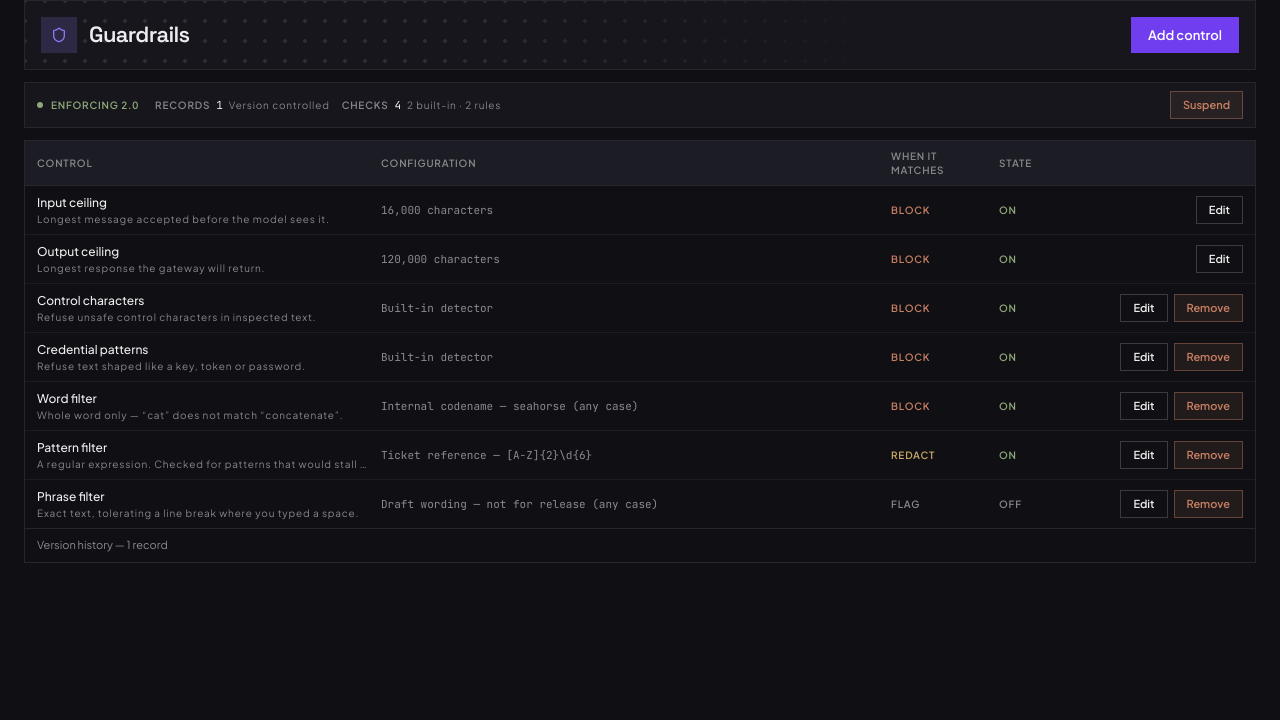
Scenario: guardrails › asks what kind of control first, then only that control's fields
Click the button "Add control" at (1185, 35), box top-left (1131, 17), bottom-right (1239, 53)
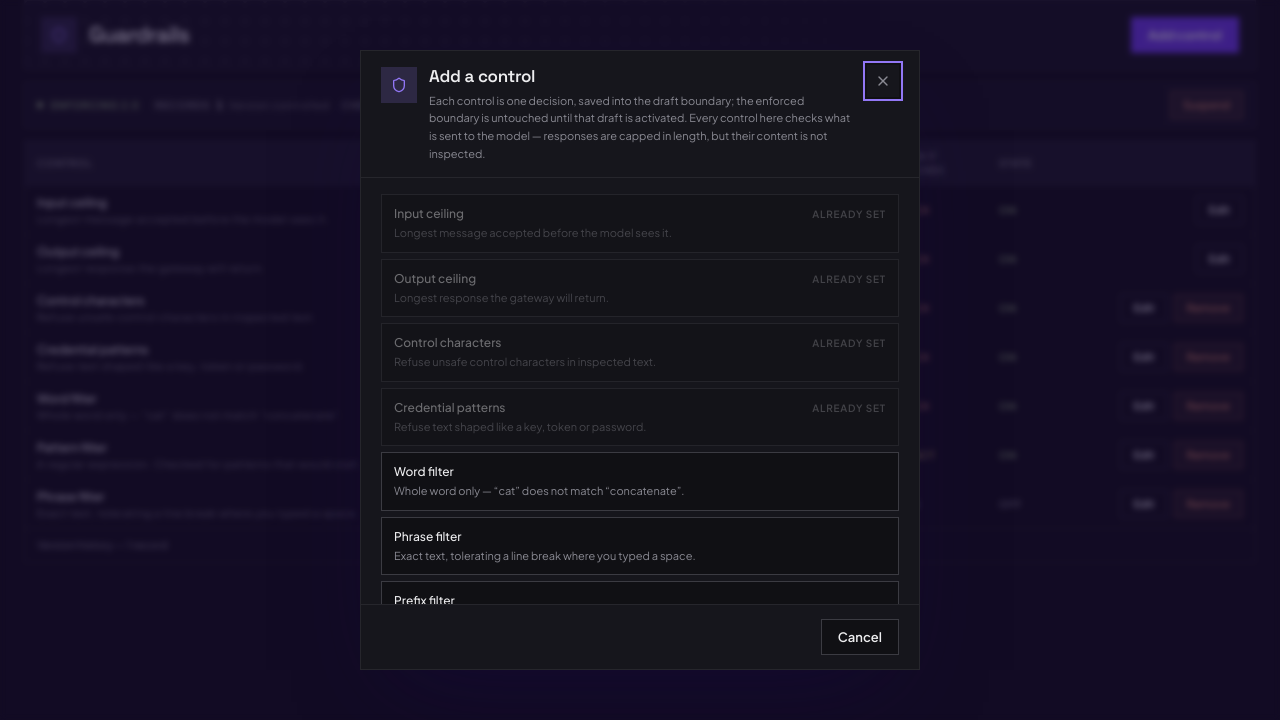
Expected: the text "Word filter" is shown
Expected: the text "Input ceiling" is shown, top-left (394, 205), bottom-right (464, 223)
Expected: the 1st text "already set" is shown, top-left (812, 207), bottom-right (886, 221)
Click the text "Word filter" at (424, 472), box top-left (394, 463), bottom-right (454, 481)
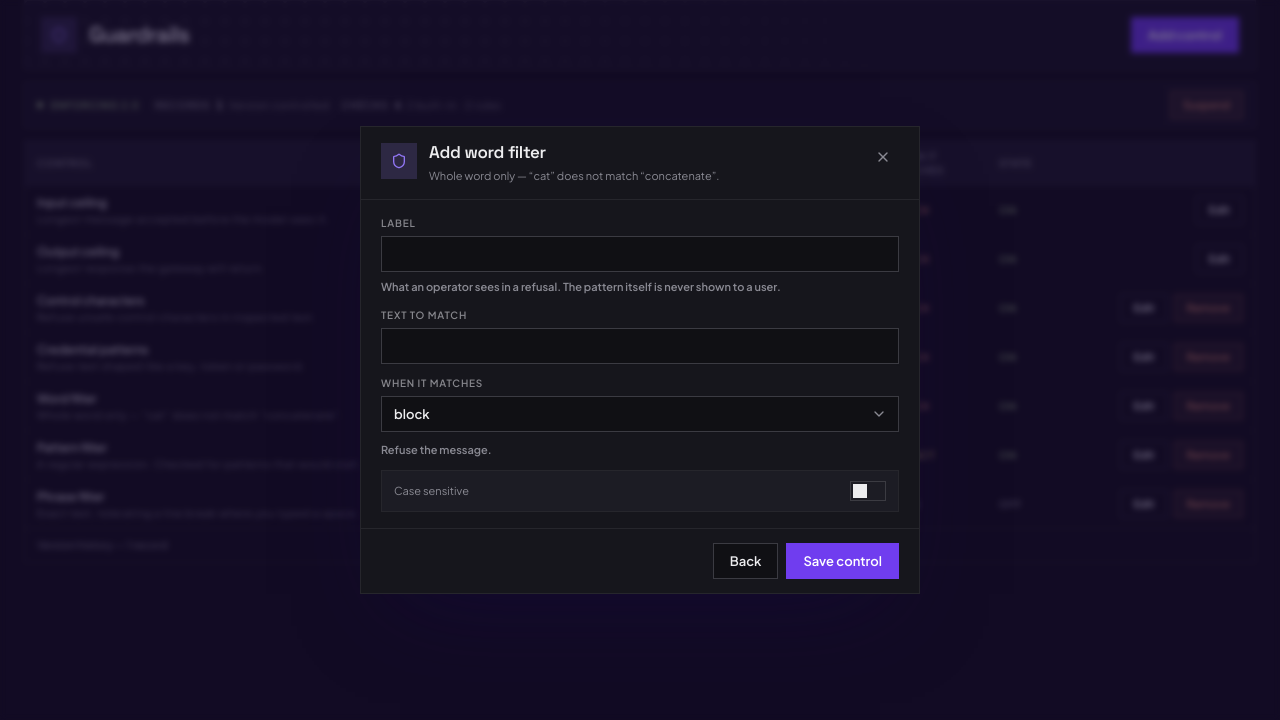
Expected: the field labelled "Label" is shown, top-left (381, 236), bottom-right (899, 272)
Expected: the field labelled "Text to match" is shown, top-left (381, 328), bottom-right (899, 364)
